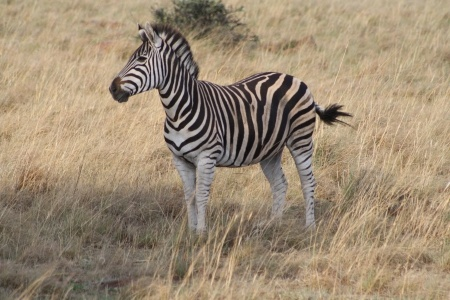zebra: (107, 22, 352, 244)
